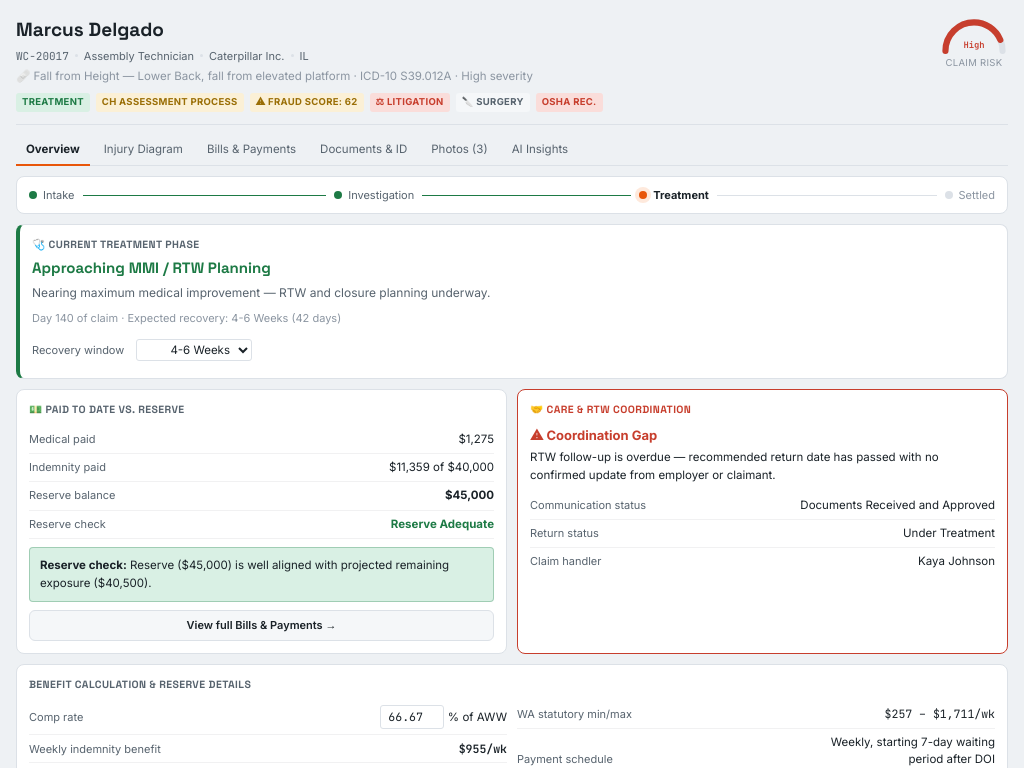
the ID card shows the worker, their identifiers and the plant footer
Click the tab with test id "tab-documents" at (364, 150), box 310,134 -> 417,166
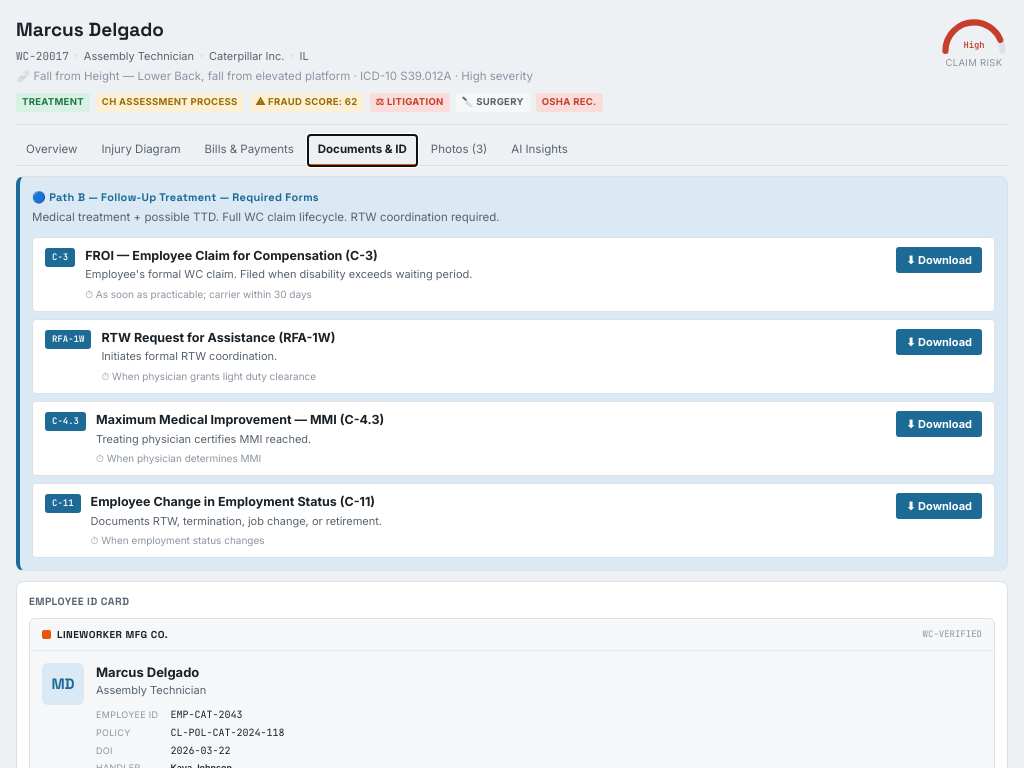
Expected: the text with test id "employee-id-name" reads "Marcus Delgado", 96,664 -> 199,680
Expected: the element with test id "employee-id-card" shows "Assembly Technician", 96,683 -> 206,697
Expected: the element with test id "employee-id-card" shows "EMP-CAT-2043", 170,708 -> 242,721
